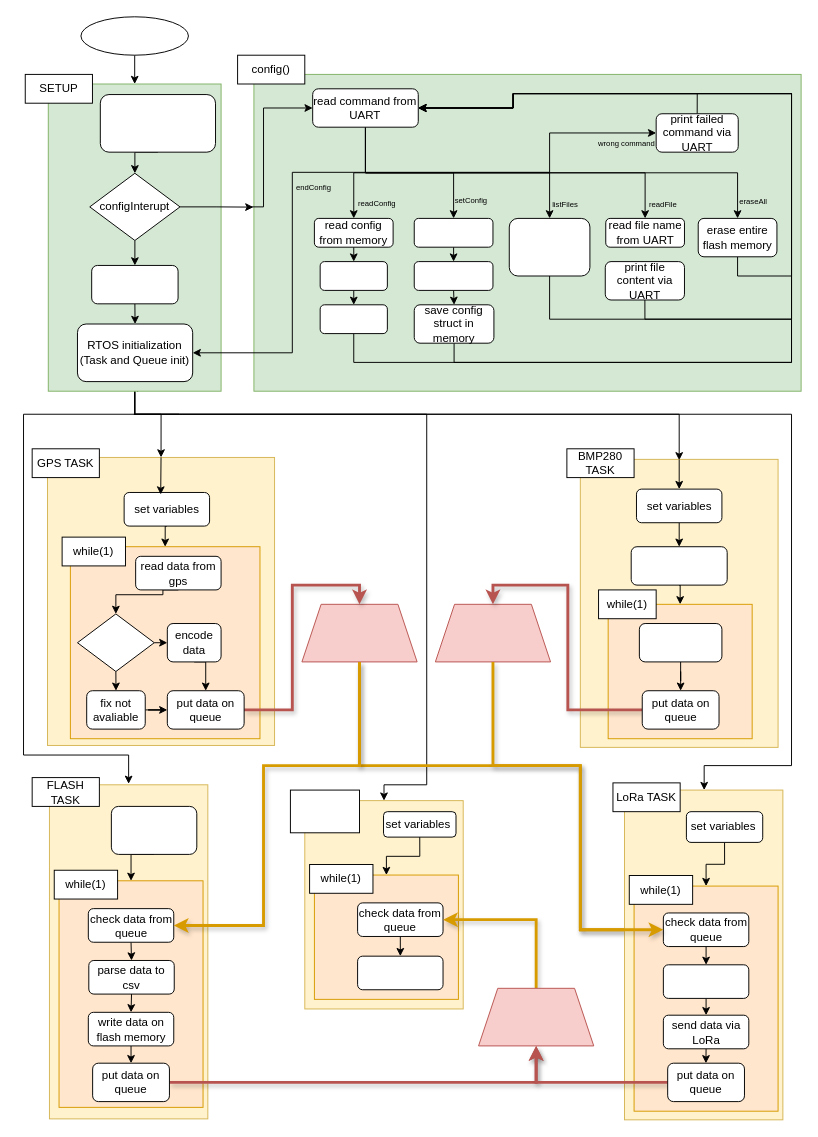
Image size: 818x1137. Some labels were removed from this diagram. Each missing label, with the centre of its shape:
"create data packet" belongs at (x=705, y=981).
"data == valid" belongs at (x=115, y=642).
"list all test files from flash memory" belongs at (x=549, y=246).
"parse config to config struct" belongs at (x=453, y=275).
"parse config to json" belongs at (x=353, y=275).
"print debug data" belongs at (x=400, y=972).
"Queue BMP280" belongs at (x=492, y=632).
"Queue debug" belongs at (x=536, y=1016).
"Queue GPS" belongs at (x=359, y=632).
"read config from UART" belongs at (x=453, y=232).
"read data from sensor" belongs at (x=680, y=642).
"resolve config" belongs at (x=134, y=284).
"send json via UART" belongs at (x=353, y=319).
"Sensor and transmition protocool initialization" belongs at (x=157, y=123).
"set current avarge pressure" belongs at (x=678, y=565).
"set variables and data header" belongs at (x=153, y=829).
"START" belongs at (x=134, y=35).
"UART DEBUG TASK" belongs at (x=324, y=811).
